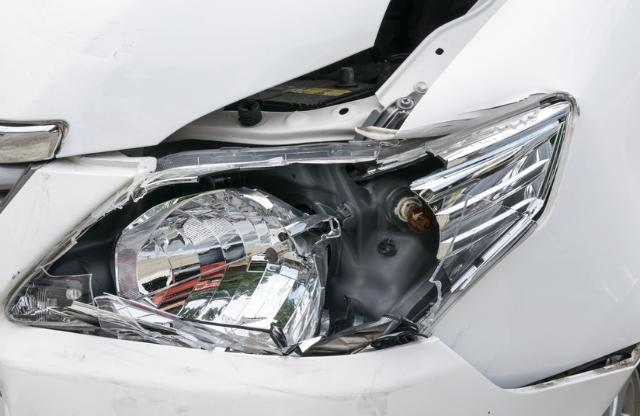Bonnet: (0, 0, 522, 121)
Light: (15, 138, 550, 347)
